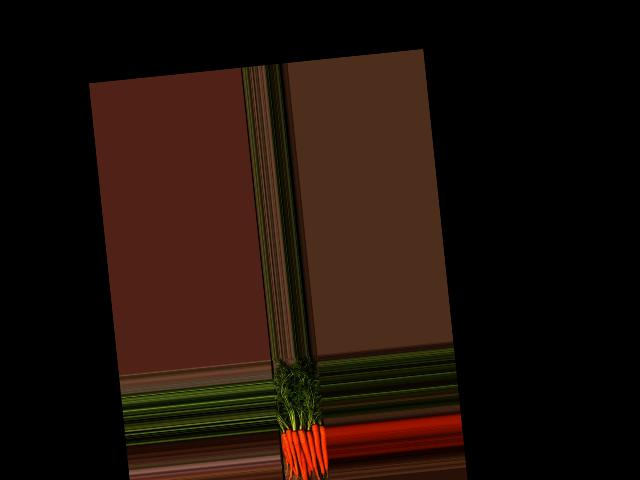carrot: (316, 422, 330, 475)
